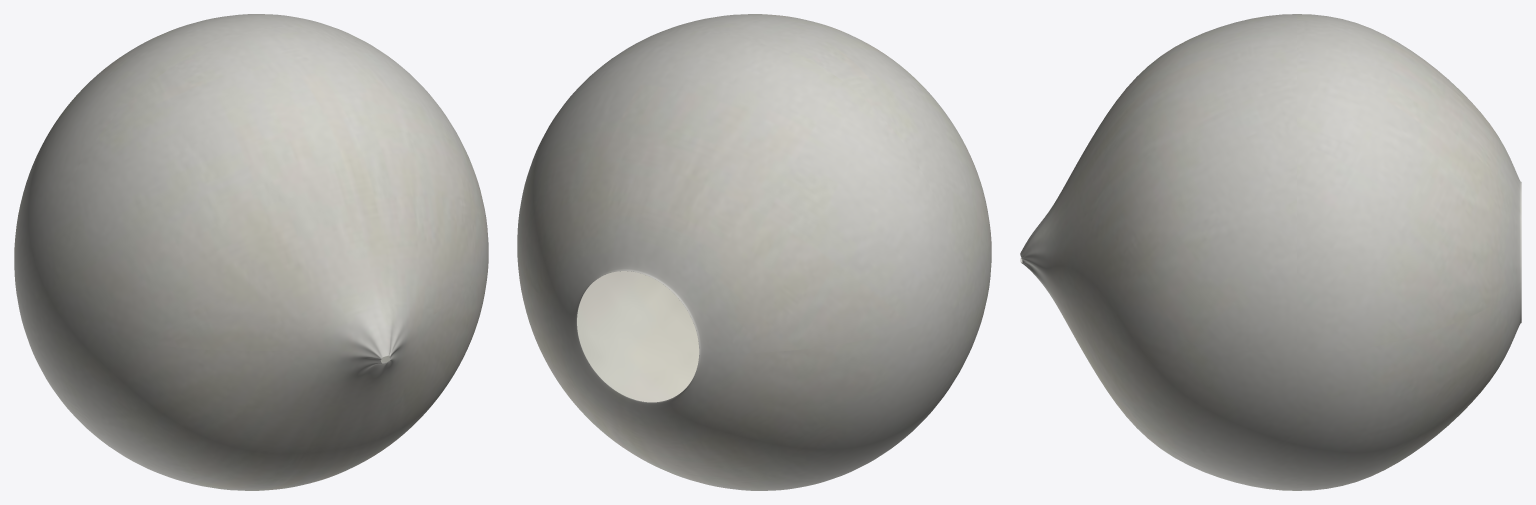
File: RoundWhiteOnionPeel001.obj
3 renders of one model, left to right at view 1: azimuth 30°, elevation 25°; view 2: azimuth 150°, elevation 25°; view 3: azimuth 270°, elevation 25°, orthographic.
Visible parts, largest first — view 1: RoundWhiteOnionPeel001; view 2: RoundWhiteOnionPeel001; view 3: RoundWhiteOnionPeel001.
Boxes of the visible parts, box(x1,y1,x2,y2) form: RoundWhiteOnionPeel001: box(14, 14, 488, 490); RoundWhiteOnionPeel001: box(517, 14, 991, 490); RoundWhiteOnionPeel001: box(1020, 14, 1521, 490).
Bounding box in the file's own units: 0.092 × 0.092 × 0.0967.
1 material, 1 textured.
